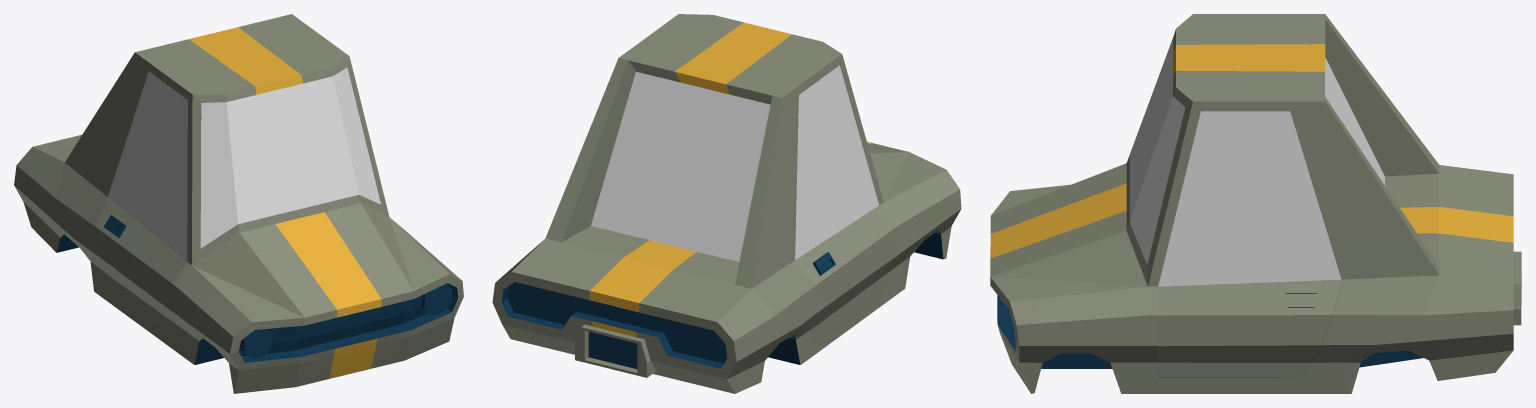
File: CarNoTireFinal-transformed.glb
The picture shows the model from 3 angles, left to right: view 1: azimuth 30°, elevation 25°; view 2: azimuth 150°, elevation 25°; view 3: azimuth 270°, elevation 25°; orthographic projection. The views are drawn at different scales.
Visible parts, largest first — view 1: Car03_1_Racing.001; view 2: Car03_1_Racing.001; view 3: Car03_1_Racing.001.
Part boxes in pixels (box(x1,y1,x2,y2)): Car03_1_Racing.001: box(14, 14, 463, 393); Car03_1_Racing.001: box(492, 14, 961, 393); Car03_1_Racing.001: box(990, 14, 1521, 393).
Bounding box in the file's own units: 2.72 × 2.68 × 4.67.
